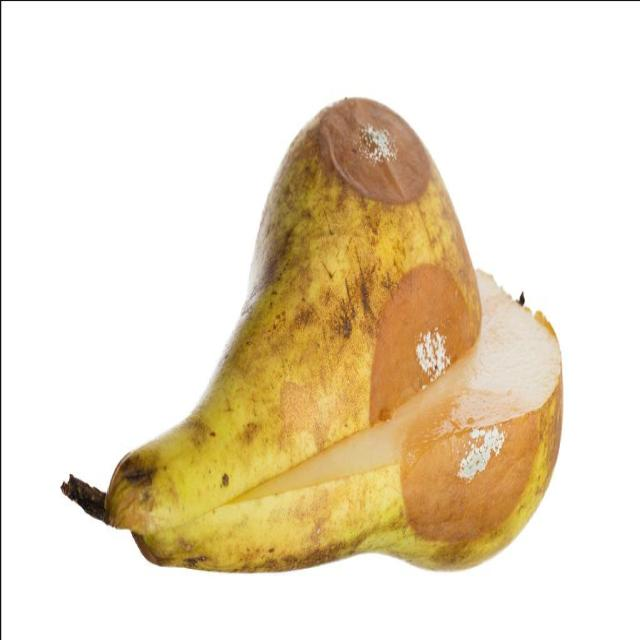Wet Waste: (61, 96, 564, 573)
